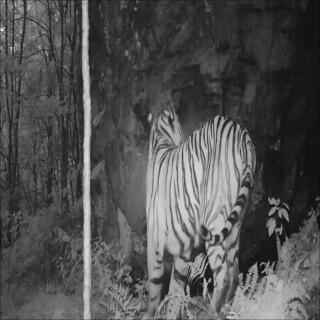Tiger: (136, 88, 264, 308)
